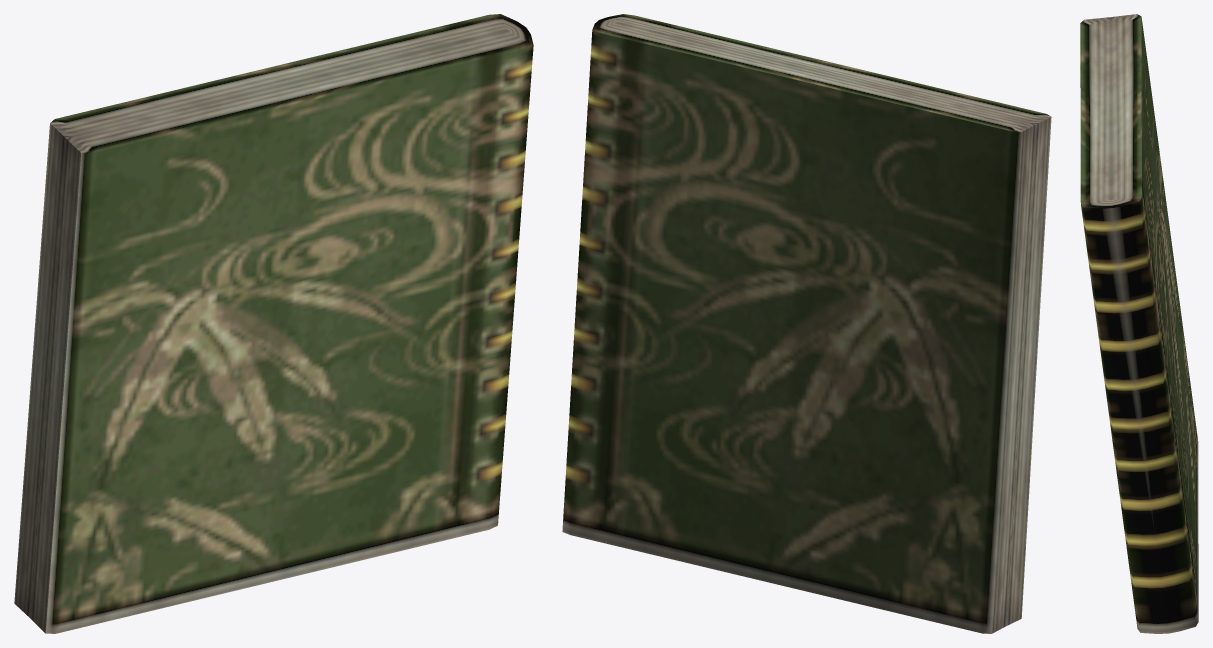
File: zero-b-album3.ico.obj
3 views of the same model, side by side, from view 1: azimuth 30°, elevation 25°; view 2: azimuth 150°, elevation 25°; view 3: azimuth 270°, elevation 25° (orthographic). The views are drawn at different scales.
Size of the model in its own units: 3.58 by 3.79 by 0.9373.
Materials: 1 (1 with a texture image).
